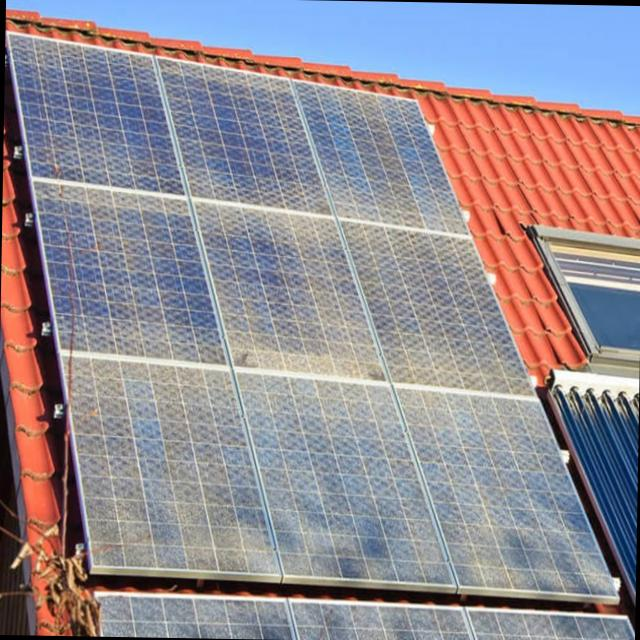faulty: (11, 32, 621, 606), (103, 596, 631, 640)
